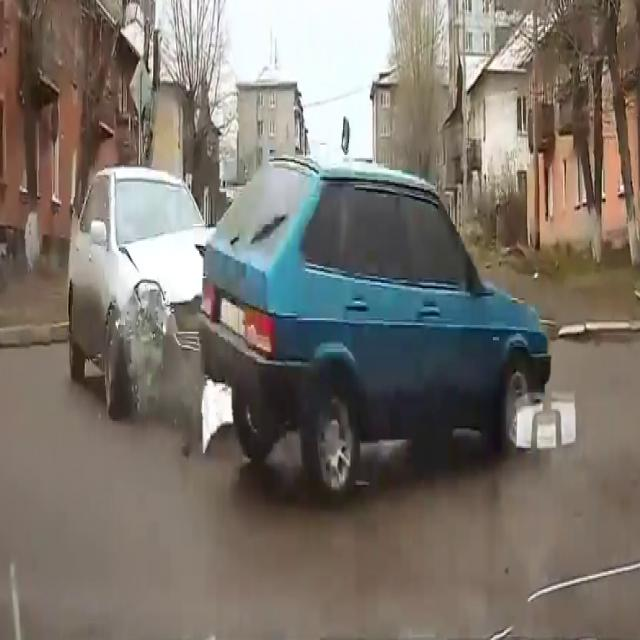accident: (69, 161, 473, 505)
